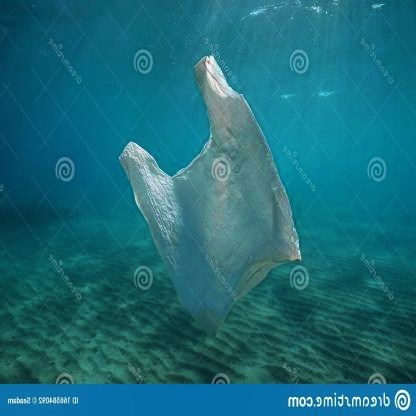pbag: (112, 48, 306, 344)
